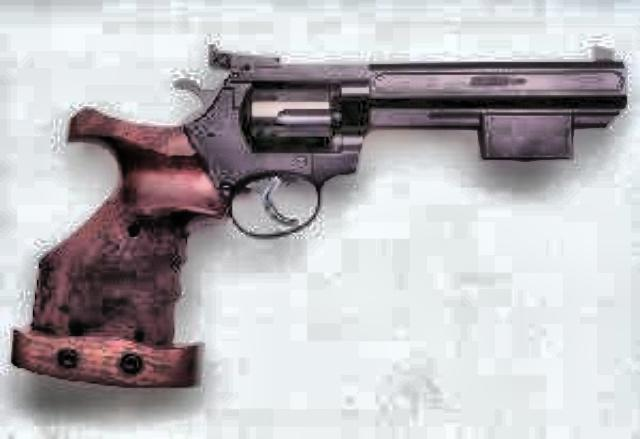pistol: (5, 43, 625, 377)
